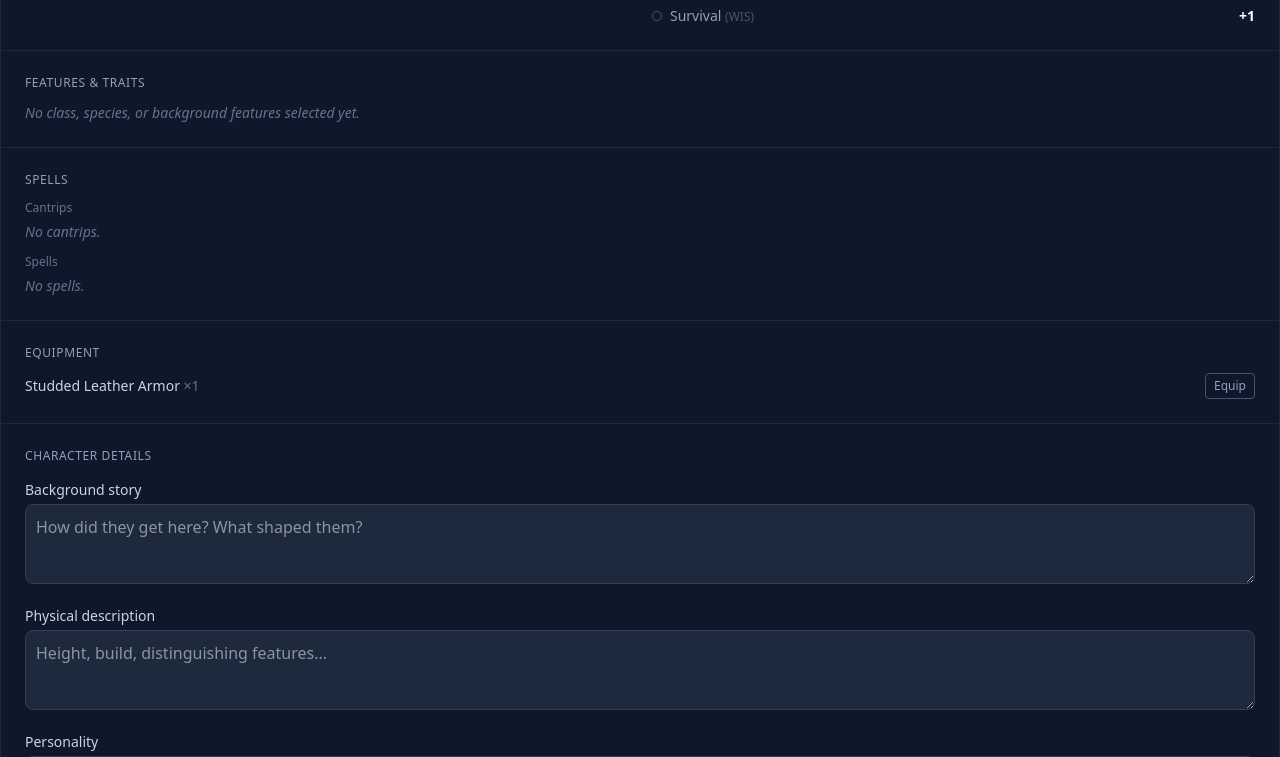
it: Step8Sheet — derived sheet › toggling an armor item as equipped recomputes AC
This screenshot has width=1280, height=757.
(page scrolled)
Click the button "Equip" at (1230, 386), box [1205, 373, 1255, 399]
(page scrolled)
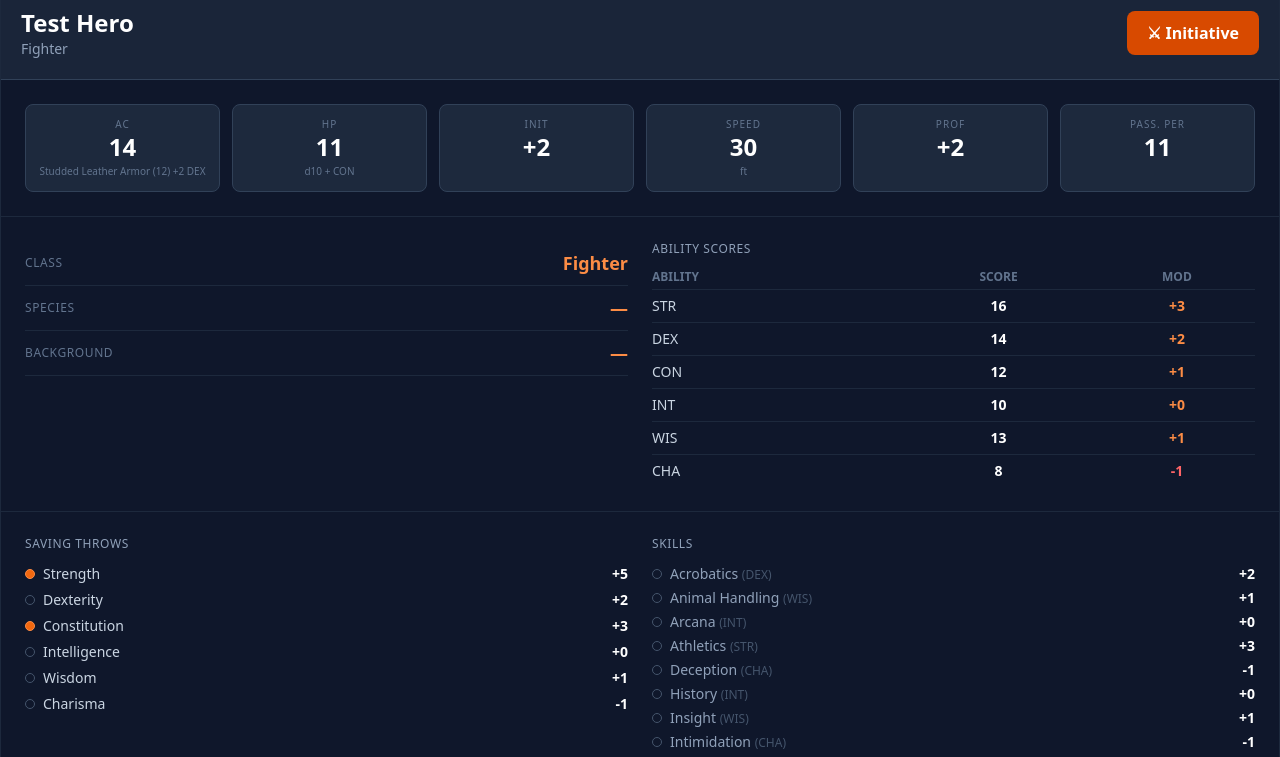
Expected: the text "14" is shown, [109, 130, 136, 163]
